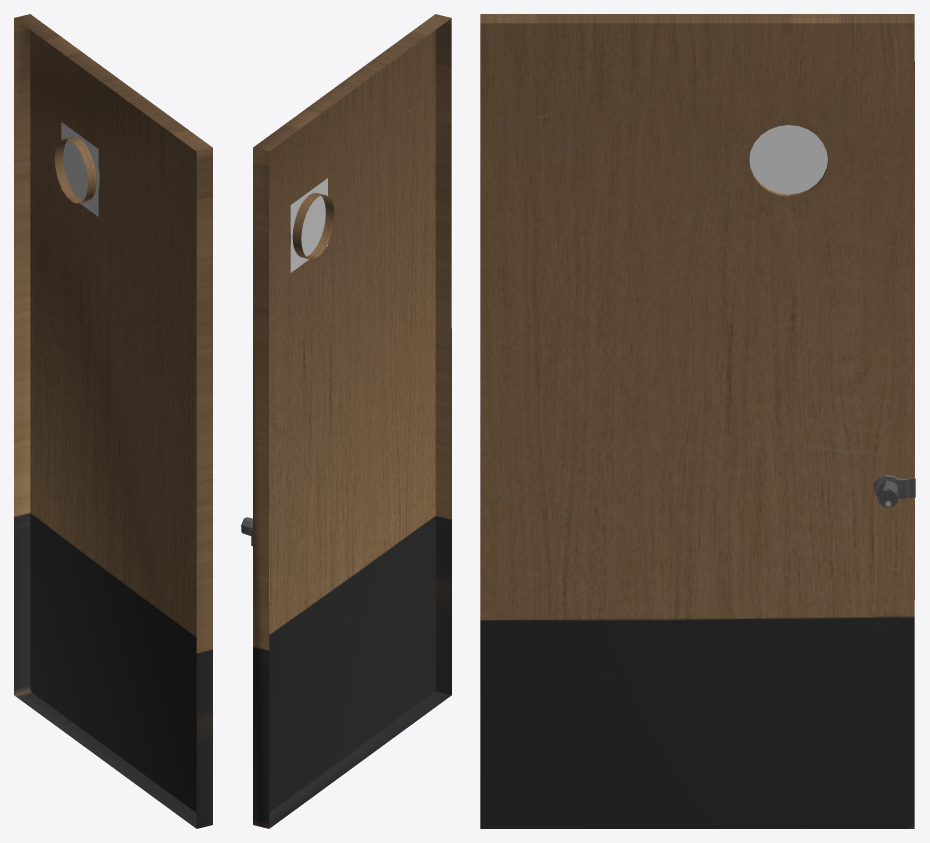
Rendered from SM_Door_Main_LOD3.fbx.
The picture shows the model from 3 angles, left to right: view 1: azimuth 30°, elevation 25°; view 2: azimuth 150°, elevation 25°; view 3: azimuth 270°, elevation 25°; orthographic projection. The views are drawn at different scales.
Visible parts, largest first — view 1: SM_Door_Main_LOD3; view 2: SM_Door_Main_LOD3; view 3: SM_Door_Main_LOD3.
Boxes of the visible parts, x1,y1,x2,y2 form: SM_Door_Main_LOD3: (14, 14, 212, 828); SM_Door_Main_LOD3: (241, 14, 451, 828); SM_Door_Main_LOD3: (480, 14, 915, 828).
Size of the model in its own units: 11.79 by 213 by 104.
